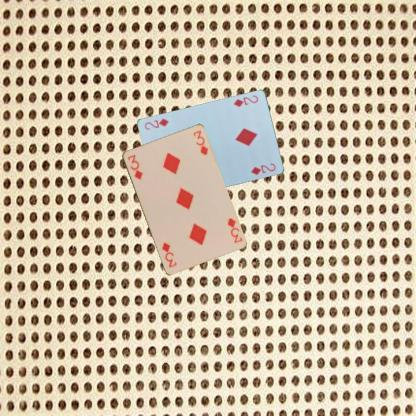2d: (231, 93, 260, 109)
3d: (125, 152, 144, 181), (225, 215, 243, 244)
